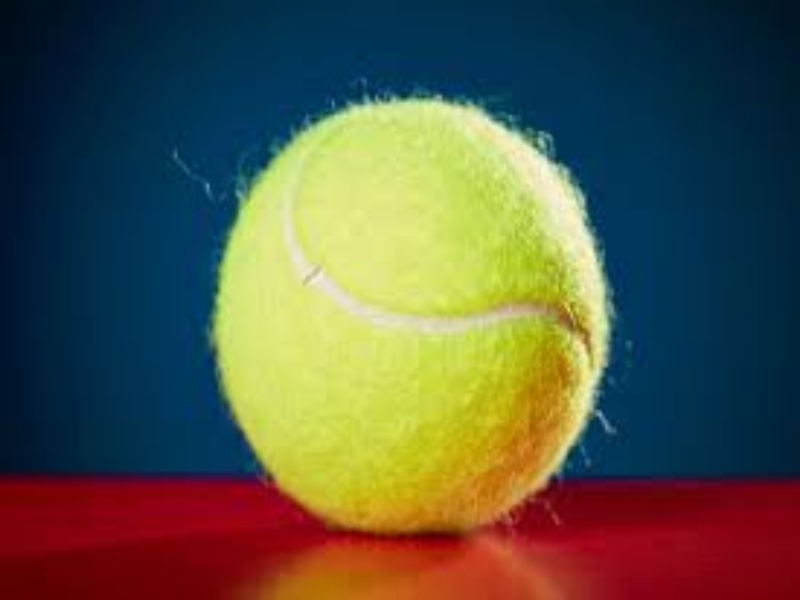tennis ball: (172, 70, 679, 552)
